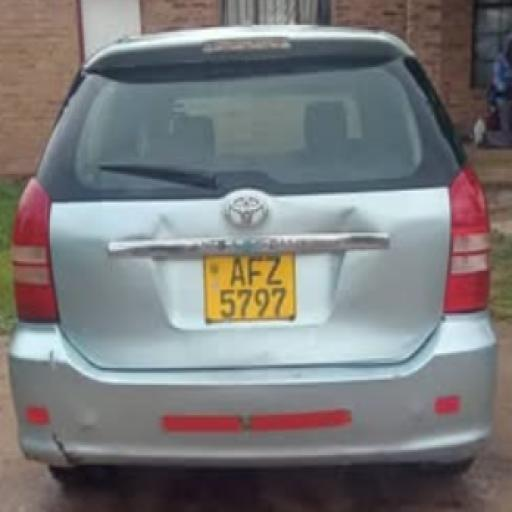number-plates: (207, 253, 293, 316)
